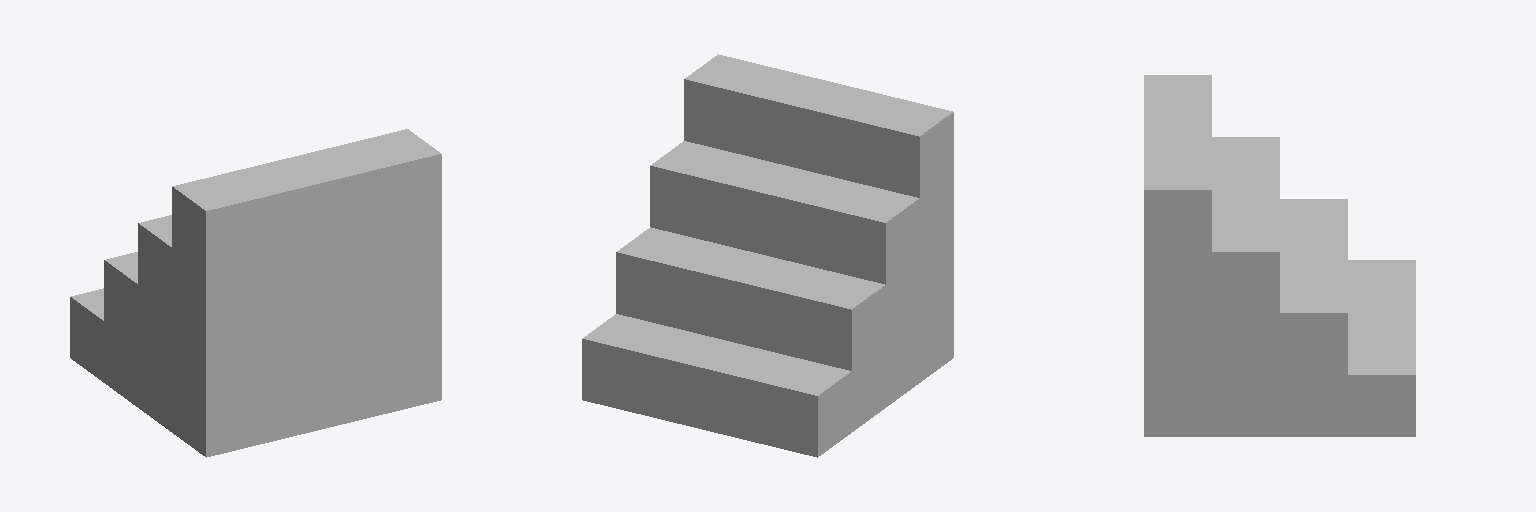
File: StairsZ+.obj
3 views of the same model, side by side, from view 1: azimuth 30°, elevation 25°; view 2: azimuth 150°, elevation 25°; view 3: azimuth 270°, elevation 25° (orthographic).
Visible parts, largest first — view 1: Solid1; view 2: Solid1; view 3: Solid1.
Boxes of the visible parts, x1,y1,x2,y2 form: Solid1: [70, 129, 441, 457]; Solid1: [582, 54, 953, 457]; Solid1: [1144, 75, 1415, 436].
Size of the model in its own units: 1 by 1 by 1.